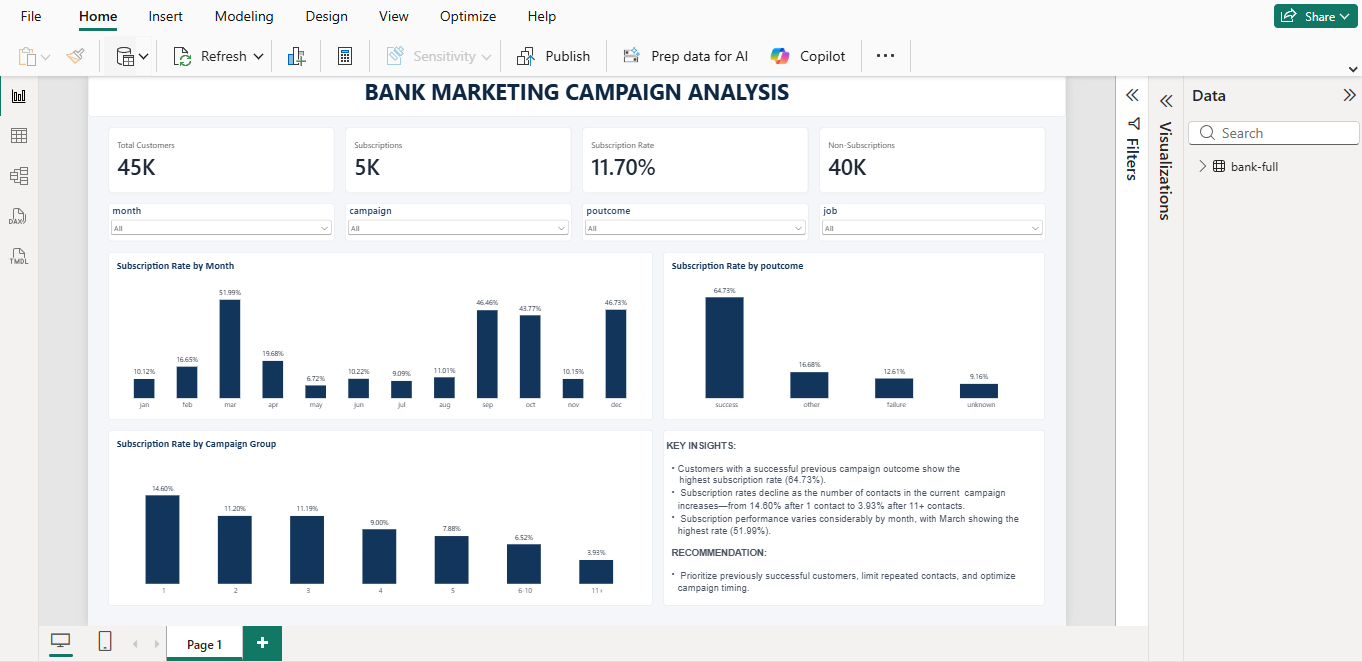

Layout of this report page (visuals, bound fields, positions):
{"tool":"powerbi","page":{"name":"Page 1","canvas":[1920,1080],"ordinal":0},"visuals":[{"type":"cardVisual","fields":{"Data":["bank-full.Total Customers"]},"box":[40,100,445,130],"z":0},{"type":"cardVisual","fields":{"Data":["bank-full.Subscriptions"]},"box":[505,100,445,130],"z":1000},{"type":"cardVisual","fields":{"Data":["bank-full.Subscription Rate"]},"box":[970,100,445,130],"z":2000},{"type":"cardVisual","fields":{"Data":["bank-full.Non-Subscriptions"]},"box":[1435,100,445,130],"z":3000},{"type":"clusteredColumnChart","title":"Subscription Rate by Month","fields":{"Category":["bank-full.month"],"Y":["bank-full.Subscription Rate"]},"box":[40,345,1070,330],"z":4000},{"type":"clusteredColumnChart","fields":{"Category":["bank-full.Campaign Group"],"Y":["bank-full.Subscription Rate"]},"box":[40,695,1070.2,345],"z":5000},{"type":"clusteredColumnChart","fields":{"Category":["bank-full.poutcome"],"Y":["bank-full.Subscription Rate"]},"box":[1130,345,750,330],"z":6000},{"type":"textbox","box":[0,0,1920,80],"z":7000},{"type":"slicer","fields":{"Values":["bank-full.month"]},"box":[40,250,445,75],"z":8000},{"type":"slicer","fields":{"Values":["bank-full.campaign"]},"box":[505,250,445,75],"z":9000},{"type":"slicer","fields":{"Values":["bank-full.poutcome"]},"box":[970,250,445,75],"z":10000},{"type":"slicer","fields":{"Values":["bank-full.job"]},"box":[1435,250,445,75],"z":11000},{"type":"textbox","box":[1130,695,750.1,345],"z":11001}]}

Visuals, with their boxes on the page's 1920x1080 design canvas (x1, y1, x2, y2). These are canvas units, not pixel positions in the 1362x662 screenshot, which may show the page scaled, cropped or inside an application window:
cardVisual - bank-full.Total Customers: (x1=40, y1=100, x2=485, y2=230)
cardVisual - bank-full.Subscriptions: (x1=505, y1=100, x2=950, y2=230)
cardVisual - bank-full.Subscription Rate: (x1=970, y1=100, x2=1415, y2=230)
cardVisual - bank-full.Non-Subscriptions: (x1=1435, y1=100, x2=1880, y2=230)
"Subscription Rate by Month" clusteredColumnChart: (x1=40, y1=345, x2=1110, y2=675)
clusteredColumnChart - bank-full.Campaign Group x bank-full.Subscription Rate: (x1=40, y1=695, x2=1110, y2=1040)
clusteredColumnChart - bank-full.poutcome x bank-full.Subscription Rate: (x1=1130, y1=345, x2=1880, y2=675)
textbox: (x1=0, y1=0, x2=1920, y2=80)
slicer - bank-full.month: (x1=40, y1=250, x2=485, y2=325)
slicer - bank-full.campaign: (x1=505, y1=250, x2=950, y2=325)
slicer - bank-full.poutcome: (x1=970, y1=250, x2=1415, y2=325)
slicer - bank-full.job: (x1=1435, y1=250, x2=1880, y2=325)
textbox: (x1=1130, y1=695, x2=1880, y2=1040)
